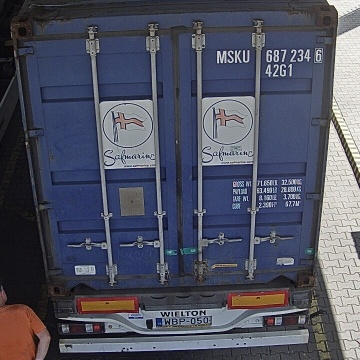serial_id: (217, 48, 323, 63)
